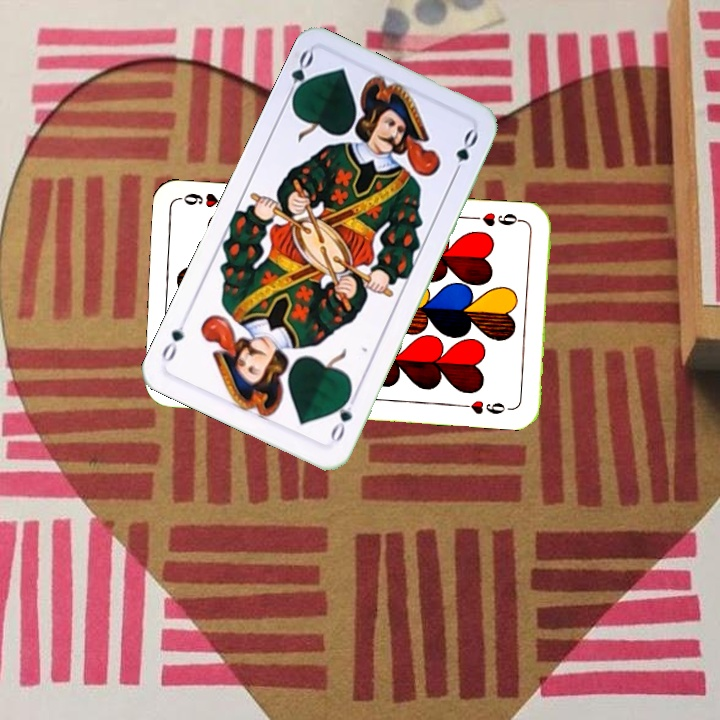GO: (281, 47, 316, 106), (326, 389, 355, 445)
H9: (467, 208, 526, 230)
